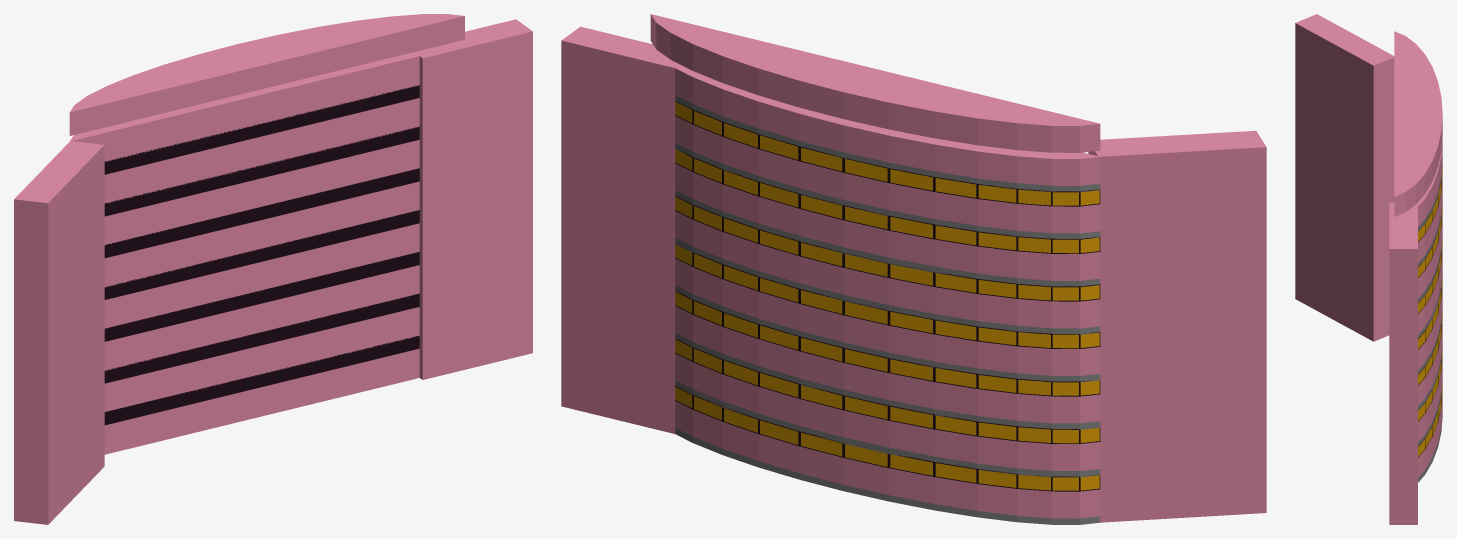
The model's file is sundaiBILL2.fbx.
The picture shows the model from 3 angles, left to right: view 1: azimuth 30°, elevation 25°; view 2: azimuth 150°, elevation 25°; view 3: azimuth 270°, elevation 25°; orthographic projection. The views are drawn at different scales.
Parts seen in each view (by area): view 1: 円柱; view 2: 円柱; view 3: 円柱.
Boxes of the visible parts, <box> form: 円柱: <box>14,14,532,524</box>; 円柱: <box>561,14,1266,524</box>; 円柱: <box>1295,14,1442,524</box>.
Bounding box in the file's own units: 2194 × 1311 × 582.
